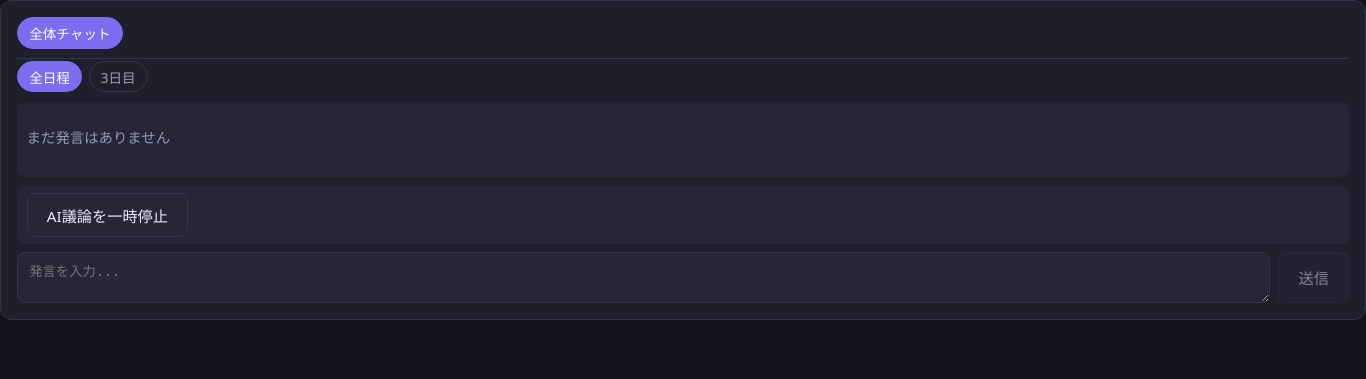
ChatPanel › shows the current day before anyone speaks and announces no overnight death
Step 1. Click the button "3日目" → (118, 77), box [88, 61, 148, 92]
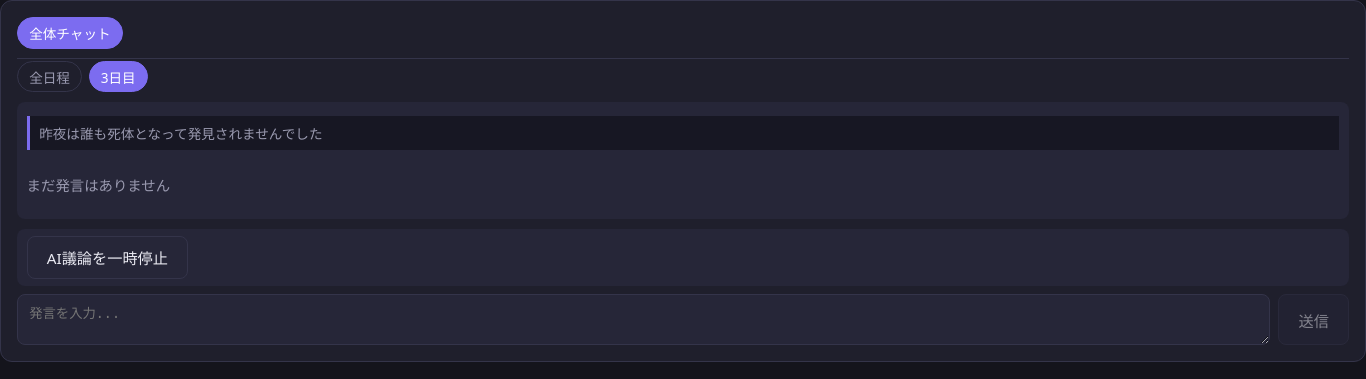
Check: the text "昨夜は誰も死体となって発見されませんでした" is shown, box [27, 116, 1339, 150]
